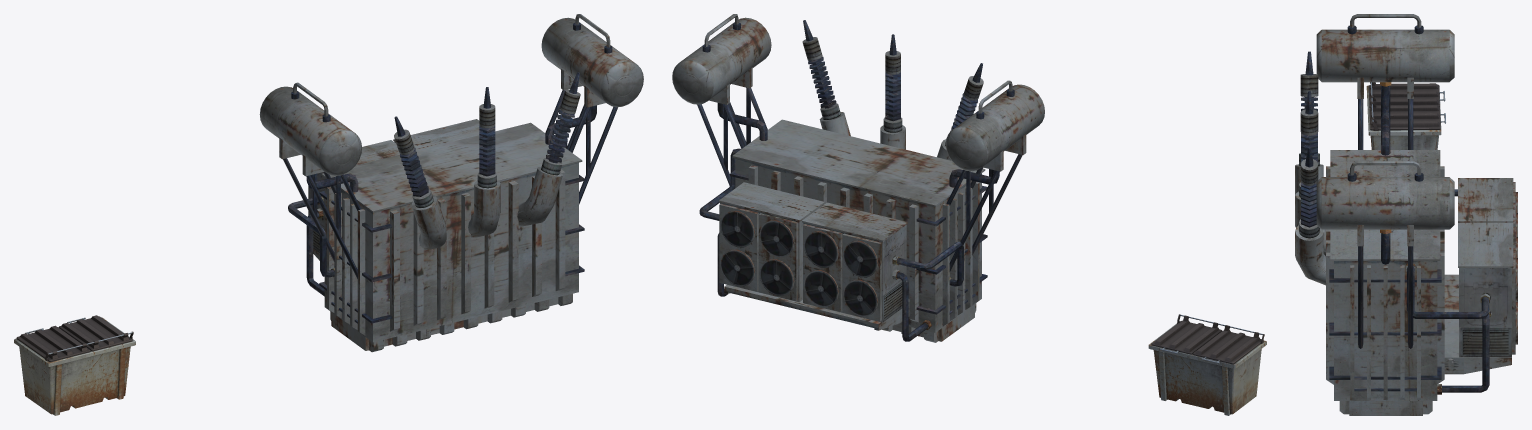
File: RandomAssets4.FBX
3 renders of one model, left to right at view 1: azimuth 30°, elevation 25°; view 2: azimuth 150°, elevation 25°; view 3: azimuth 270°, elevation 25°, orthographic. The views are drawn at different scales.
Parts seen in each view (by area): view 1: Asset2, Asset1; view 2: Asset2, Asset1; view 3: Asset2, Asset1.
Boxes of the visible parts, x1,y1,x2,y2 form: Asset2: [259, 14, 643, 352]; Asset1: [14, 315, 135, 415]; Asset2: [672, 14, 1044, 342]; Asset1: [1148, 314, 1266, 415]; Asset2: [1295, 14, 1517, 415]; Asset1: [1366, 82, 1445, 149].
Bounding box in the file's own units: 334 × 104 × 142.
